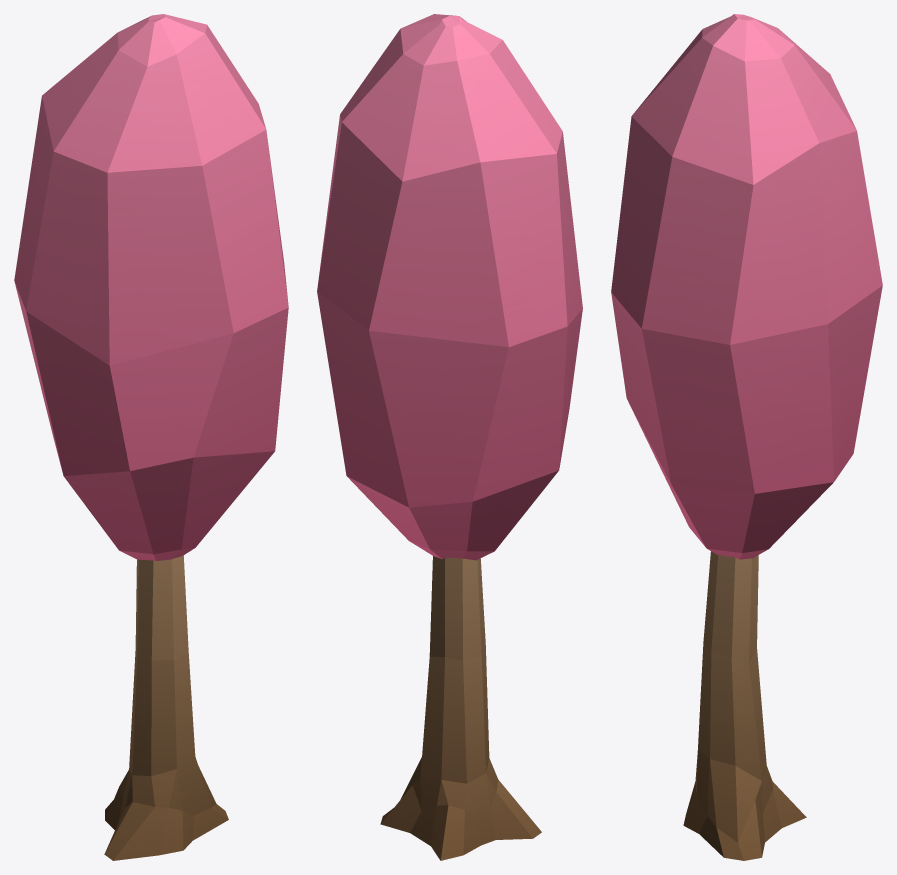
Rendered from Tree_Poplar_Pink_01.fbx.
3 views of the same model, side by side, from view 1: azimuth 30°, elevation 25°; view 2: azimuth 150°, elevation 25°; view 3: azimuth 270°, elevation 25° (orthographic).
Parts seen in each view (by area): view 1: Tree_Poplar_Pink; view 2: Tree_Poplar_Pink; view 3: Tree_Poplar_Pink.
Part boxes in pixels (x1,y1,x2,y2): Tree_Poplar_Pink: (14, 14, 288, 860); Tree_Poplar_Pink: (317, 14, 582, 860); Tree_Poplar_Pink: (611, 14, 882, 860).
Size of the model in its own units: 2.95 by 9.4 by 2.85.
